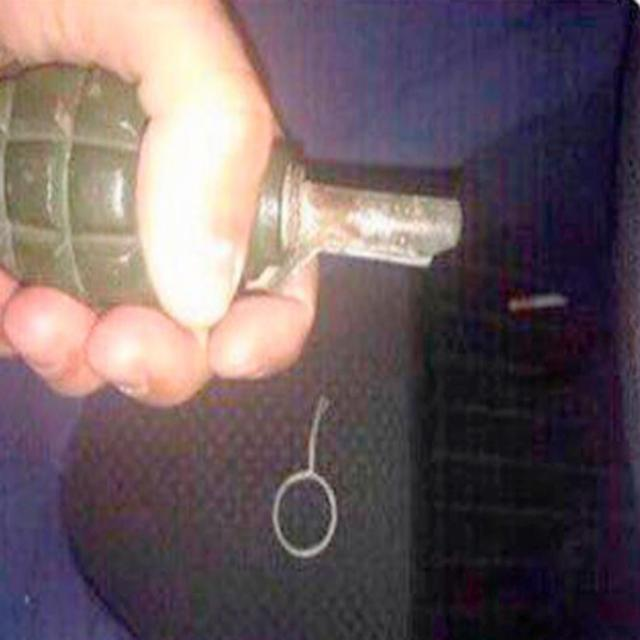grenade: (2, 60, 463, 316)
